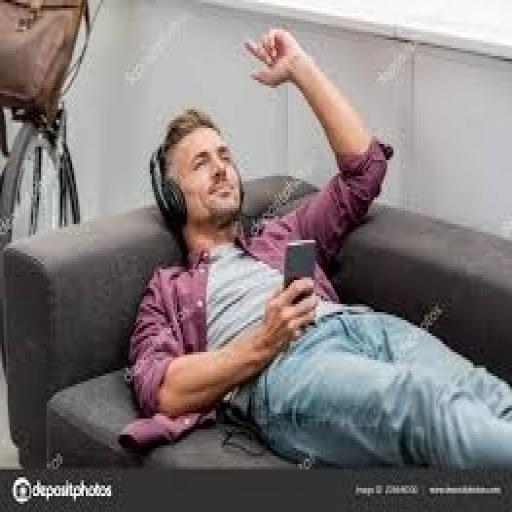listening_to_music: (125, 24, 510, 475)
